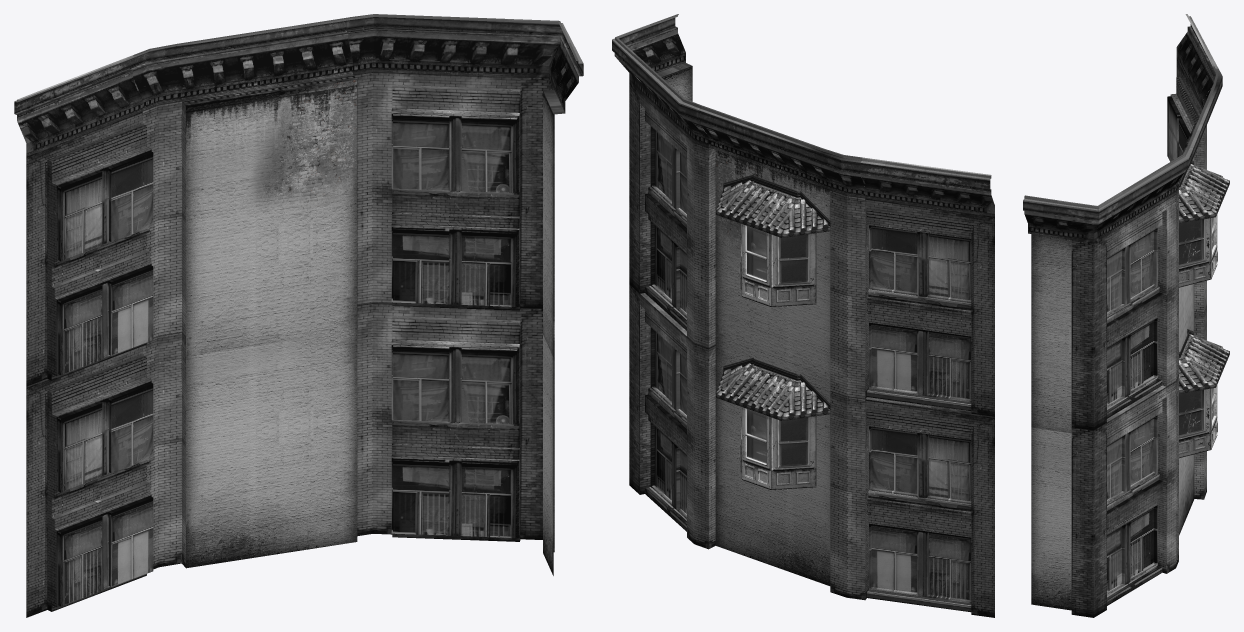
Rendered from chinatown_building_5.fbx.
3 renders of one model, left to right at view 1: azimuth 30°, elevation 25°; view 2: azimuth 150°, elevation 25°; view 3: azimuth 270°, elevation 25°, orthographic. The views are drawn at different scales.
Visible parts, largest first — view 1: chinatown_building_5; view 2: chinatown_building_5; view 3: chinatown_building_5.
Part boxes in pixels (x1,y1,x2,y2): chinatown_building_5: (14, 14, 583, 617); chinatown_building_5: (612, 14, 994, 617); chinatown_building_5: (1023, 14, 1229, 617).
Size of the model in its own units: 1426 by 1425 by 641.
